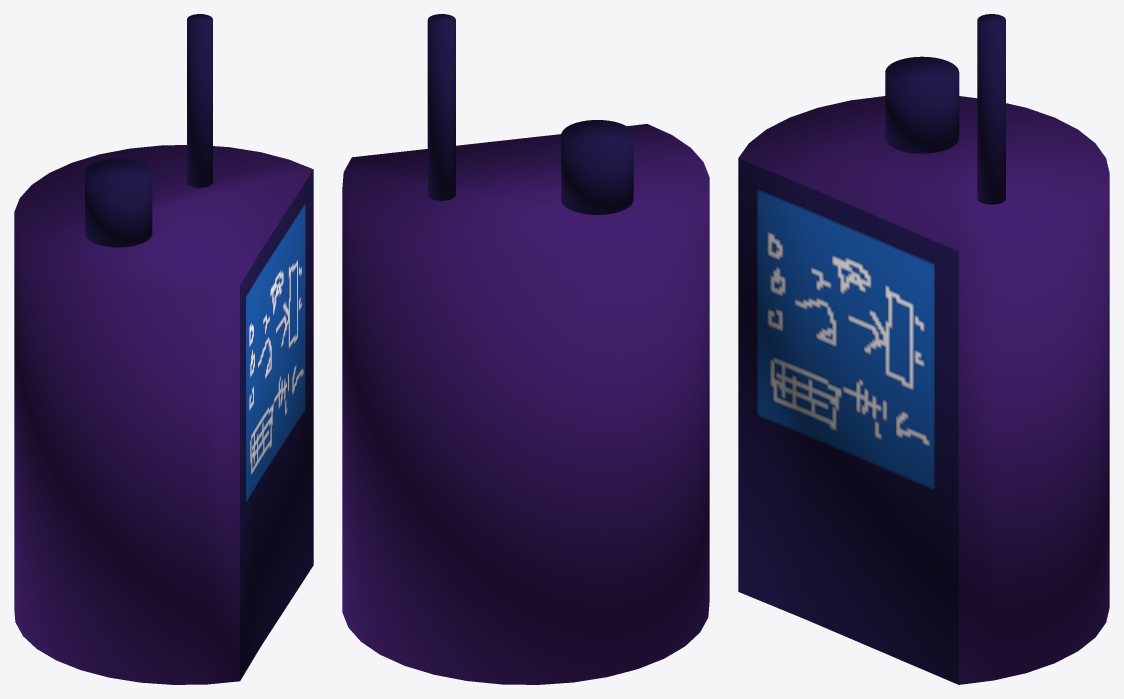
File: machine.fbx
The picture shows the model from 3 angles, left to right: view 1: azimuth 30°, elevation 25°; view 2: azimuth 150°, elevation 25°; view 3: azimuth 270°, elevation 25°; orthographic projection. The views are drawn at different scales.
Parts seen in each view (by area): view 1: Cylinder_001; view 2: Cylinder_001; view 3: Cylinder_001.
Boxes of the visible parts, x1,y1,x2,y2 form: Cylinder_001: (14, 14, 313, 684); Cylinder_001: (342, 14, 709, 684); Cylinder_001: (738, 14, 1109, 684).
Bounding box in the file's own units: 4.13 × 7.52 × 4.13.
Materials: 1 (1 with a texture image).
